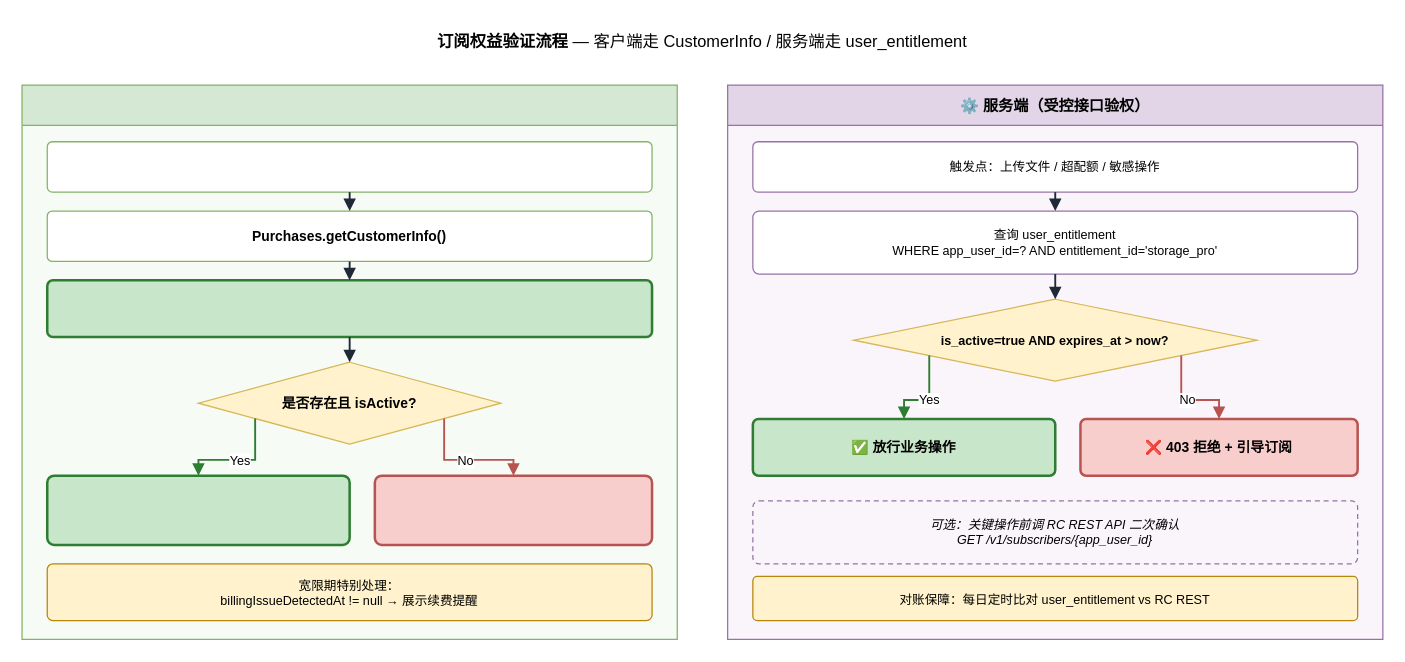
The diagram is 1405 pixels wide and 662 high, and some of its shapes have lost their labels. The box of each missing label's shape, as (x1, y1, x2, y2) in pixels:
✅ 解锁存储 Pro 功能 （容量 / 云同步 / 导出 …）: (45, 474, 350, 546)
❌ 显示升级 CTA 引导进入订阅方案页: (373, 474, 653, 546)
触发点：存储页打开 / App 启动 / 关键操作前: (46, 140, 652, 192)
读取 customerInfo.entitlements.active["storage_pro"]: (45, 278, 653, 338)
📱 客户端（UI 展示 / 功能门控）: (21, 84, 677, 639)
